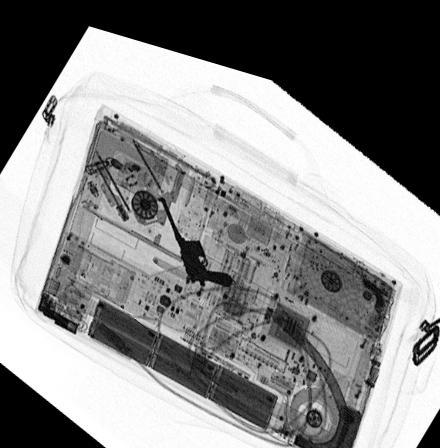Gun: (157, 182, 231, 274)
